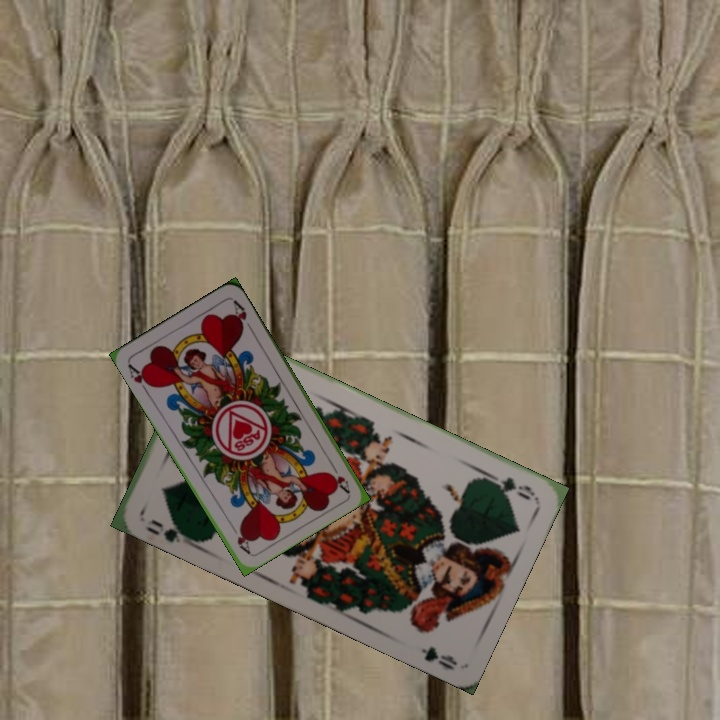GO: (478, 467, 538, 503), (140, 515, 196, 546)
HA: (124, 359, 155, 396), (325, 457, 352, 495)
